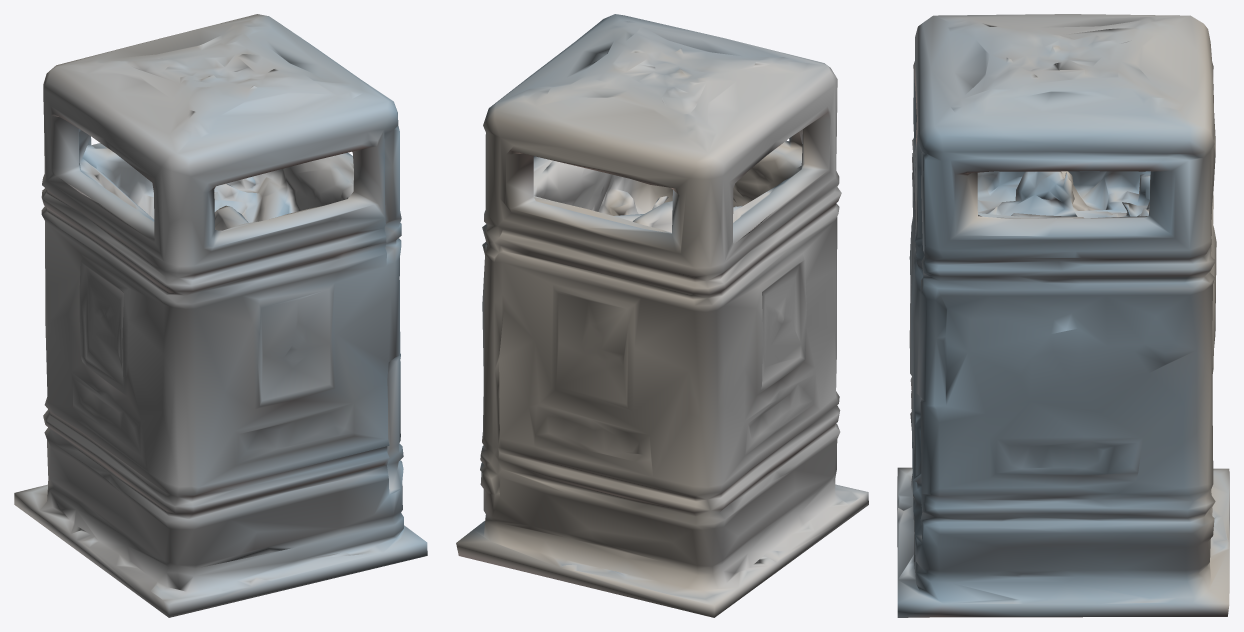
3 renders of one model, left to right at view 1: azimuth 30°, elevation 25°; view 2: azimuth 150°, elevation 25°; view 3: azimuth 270°, elevation 25°, orthographic. The views are drawn at different scales.
Visible parts, largest first — view 1: bin_repo; view 2: bin_repo; view 3: bin_repo.
Part boxes in pixels (x1,y1,x2,y2): bin_repo: (14,14,427,617); bin_repo: (456,14,868,617); bin_repo: (897,14,1229,617).
Size of the model in its own units: 0.5812 by 0.9912 by 0.601.
